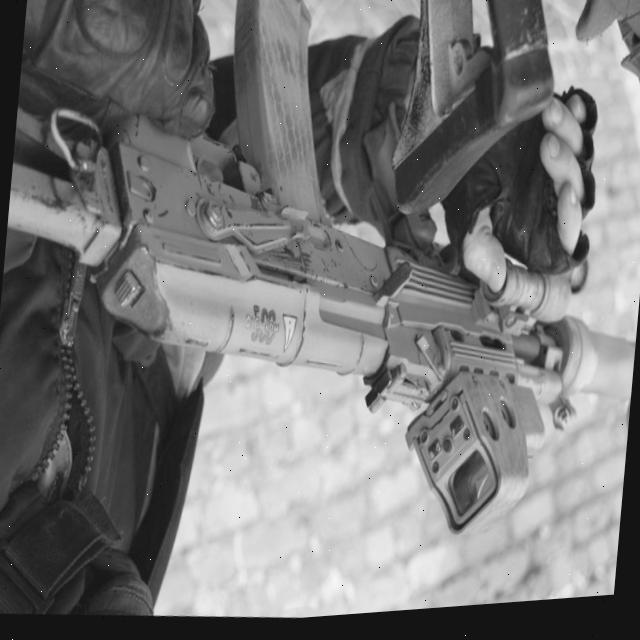firearm: (0, 0, 640, 580)
